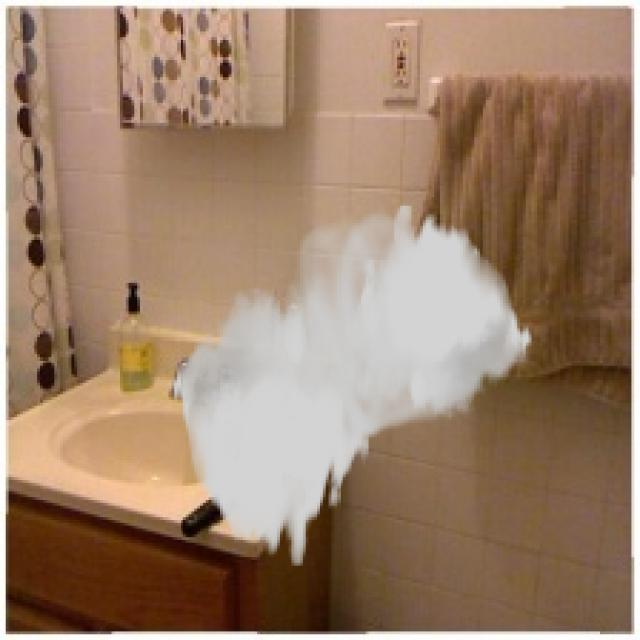smoke: (172, 203, 534, 566)
